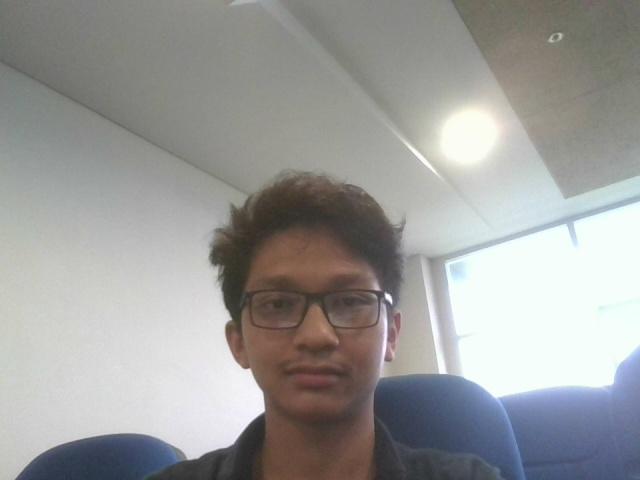Awake: (193, 166, 408, 479)
